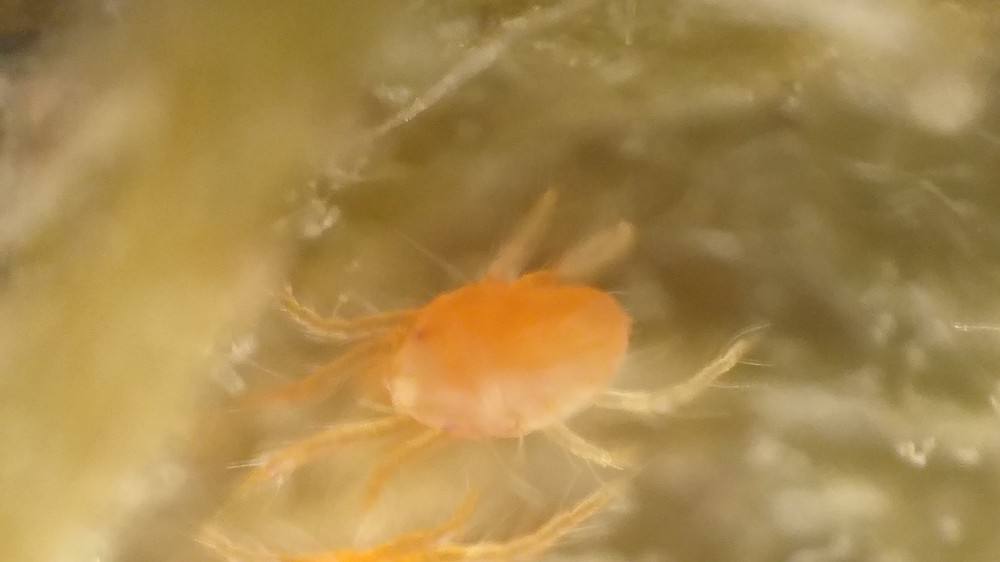Aracnido Rojo: (229, 205, 797, 515)
